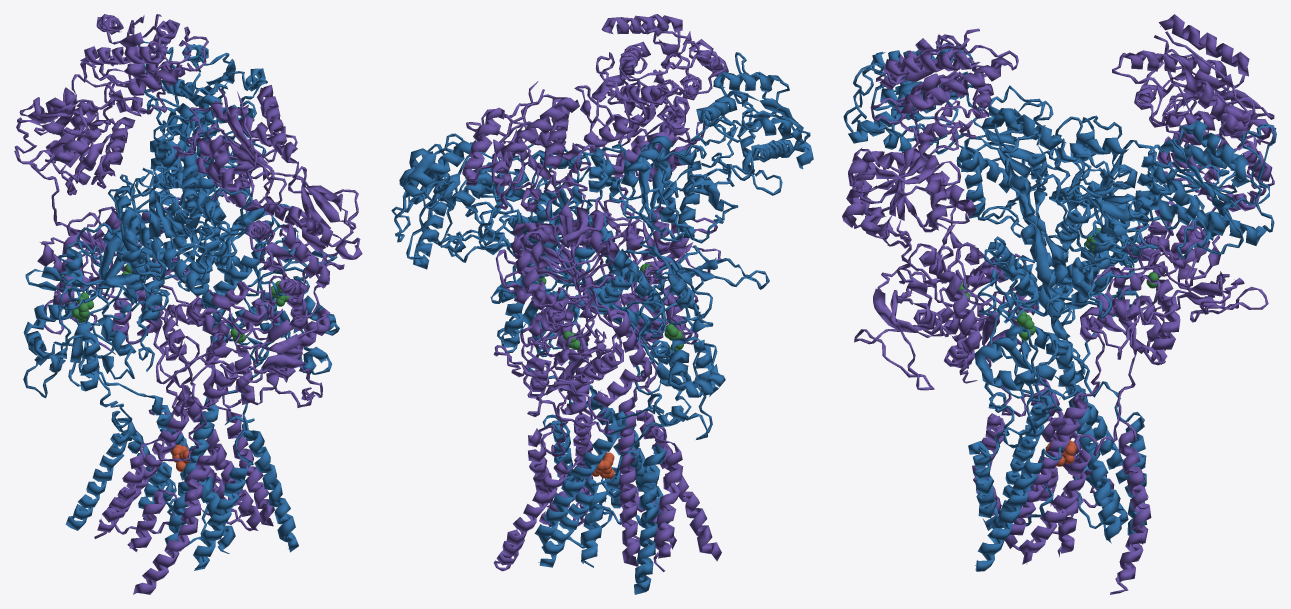
The model's file is nmda-ketamine-7eu7.glb.
The picture shows the model from 3 angles, left to right: view 1: azimuth 30°, elevation 25°; view 2: azimuth 150°, elevation 25°; view 3: azimuth 270°, elevation 25°; orthographic projection. The views are drawn at different scales.
Parts seen in each view (by area): view 1: receptor, receptor2, ligand2; view 2: receptor, receptor2, ligand2; view 3: receptor, receptor2, ligand2.
Part boxes in pixels (x1=…): receptor: x1=14, y1=14, x2=362, y2=594; receptor2: x1=23, y1=40, x2=339, y2=570; ligand2: x1=72, y1=264, x2=289, y2=343; receptor: x1=462, y1=14, x2=728, y2=571; receptor2: x1=391, y1=52, x2=813, y2=594; ligand2: x1=535, y1=263, x2=683, y2=351; receptor: x1=842, y1=14, x2=1276, y2=594; receptor2: x1=843, y1=43, x2=1276, y2=571; ligand2: x1=958, y1=228, x2=1158, y2=340.
Bounding box in the file's own units: 9.81 × 16.67 × 12.38.
